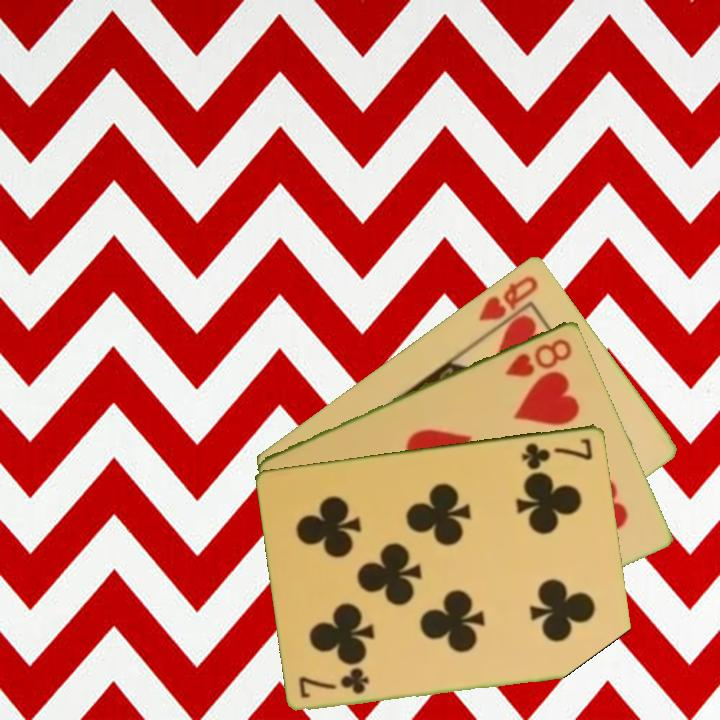7c: (518, 434, 596, 471), (296, 667, 372, 701)
8h: (501, 334, 575, 380)
Qh: (474, 271, 542, 324)
